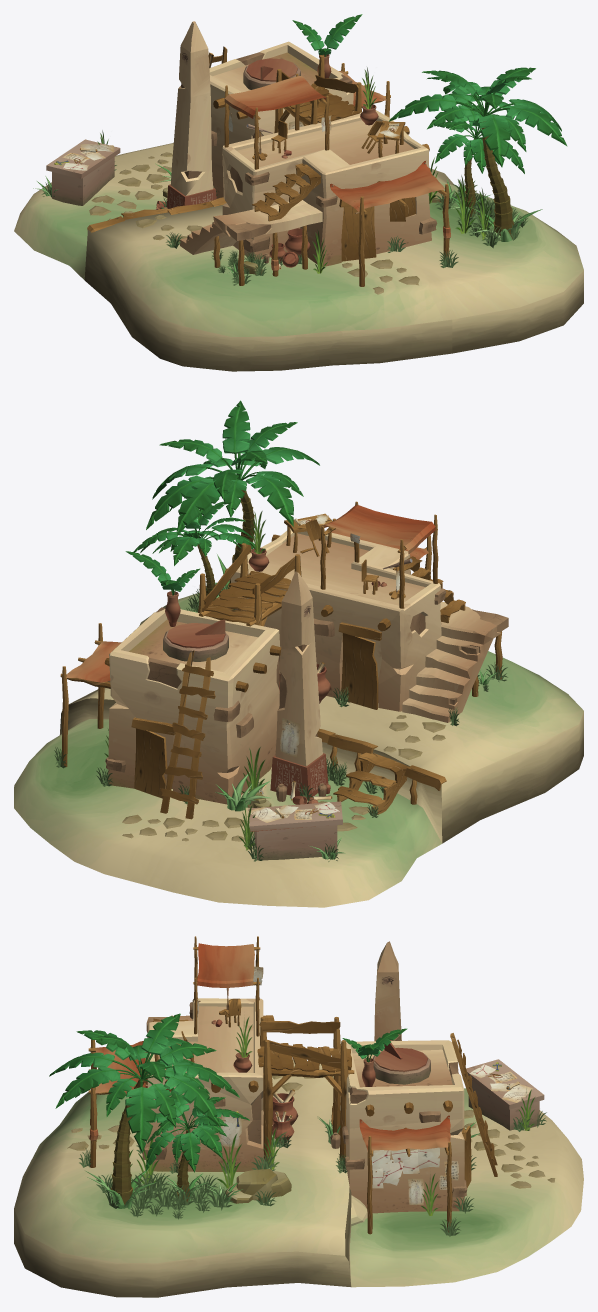
3 views of the same model, one above another, from view 1: azimuth 30°, elevation 25°; view 2: azimuth 150°, elevation 25°; view 3: azimuth 270°, elevation 25° (orthographic). The views are drawn at different scales.
Visible parts, largest first — view 1: Fuck_you:pCube56, Reset:Reset:Reset:polySurface3, Fuck_you:pCylinder104, Reset:pCube55, Reset:polySurface10, Reset:Reset:Reset:Reset:Reset:Reset:polySurface9, Reset:Reset:Reset:Reset:Reset:Reset:pCube90, Reset:Reset:Reset:Reset:Reset:pCylinder42, Fuck_you:pCylinder103, Fuck_you:pDisc5, Reset:Reset:Reset:Reset:Reset:pCube52polySurface16, pCylinder87 (+7 smaller); view 2: Fuck_you:pCube56, Reset:Reset:Reset:polySurface3, Fuck_you:pCylinder104, Reset:pCube55, Reset:Reset:Reset:Reset:Reset:pCylinder42, Reset:Reset:Reset:Reset:Reset:Reset:polySurface9, Reset:Reset:Reset:Reset:Reset:Reset:pCube90, Reset:pCube120, Fuck_you:pCylinder103, Fuck_you:pDisc5, Reset:polySurface12, Reset:pCube111 (+5 smaller); view 3: Fuck_you:pCube56, Reset:Reset:Reset:polySurface3, Fuck_you:pCylinder104, Reset:Reset:Reset:Reset:Reset:pCylinder42, Fuck_you:pCylinder103, Reset:Reset:Reset:Reset:Reset:Reset:polySurface9, Reset:polySurface12, Reset:Reset:Reset:Reset:Reset:Reset:pCube90, Reset:pCube55, Reset:Reset:Reset:Reset:Reset:pCube52polySurface16, Fuck_you:pCube127, Reset:polySurface10 (+7 smaller).
Boxes of the visible parts, x1,y1,x2,y2 form: Fuck_you:pCube56: (14,143,583,371); Reset:Reset:Reset:polySurface3: (179,41,431,285); Fuck_you:pCylinder104: (389,67,567,240); Reset:pCube55: (166,21,216,208); Reset:polySurface10: (330,161,449,286); Reset:Reset:Reset:Reset:Reset:Reset:polySurface9: (224,73,329,169); Reset:Reset:Reset:Reset:Reset:Reset:pCube90: (46,139,120,205); Reset:Reset:Reset:Reset:Reset:pCylinder42: (274,55,361,133); Fuck_you:pCylinder103: (434,102,524,217); Fuck_you:pDisc5: (89,152,202,243); Reset:Reset:Reset:Reset:Reset:pCube52polySurface16: (243,58,300,89); pCylinder87: (292,14,362,56); Fuck_you:pCube56: (14,586,583,907); Reset:Reset:Reset:polySurface3: (104,528,508,804); Fuck_you:pCylinder104: (146,400,319,588); Reset:pCube55: (270,571,328,799); Reset:Reset:Reset:Reset:Reset:pCylinder42: (198,543,301,626); Reset:Reset:Reset:Reset:Reset:Reset:polySurface9: (320,501,438,608); Reset:Reset:Reset:Reset:Reset:Reset:pCube90: (248,801,342,860); Reset:pCube120: (160,650,215,819); Fuck_you:pCylinder103: (133,501,255,600); Fuck_you:pDisc5: (122,715,445,841); Reset:polySurface12: (60,623,121,767); Reset:pCube111: (333,752,408,815); Fuck_you:pCube56: (14,1060,583,1297); Reset:Reset:Reset:polySurface3: (146,998,471,1213); Fuck_you:pCylinder104: (49,1013,239,1205); Reset:Reset:Reset:Reset:Reset:pCylinder42: (257,1017,354,1164); Fuck_you:pCylinder103: (146,1088,249,1202); Reset:Reset:Reset:Reset:Reset:Reset:polySurface9: (193,936,260,1036); Reset:polySurface12: (359,1115,452,1234); Reset:Reset:Reset:Reset:Reset:Reset:pCube90: (466,1059,544,1130); Reset:pCube55: (374,941,401,1041); Reset:Reset:Reset:Reset:Reset:pCube52polySurface16: (373,1043,430,1084); Fuck_you:pCube127: (224,1169,291,1203); Reset:polySurface10: (88,1037,147,1167).
Size of the model in its own units: 85.08 by 45.93 by 103.
Materials: 5 (4 with a texture image).
